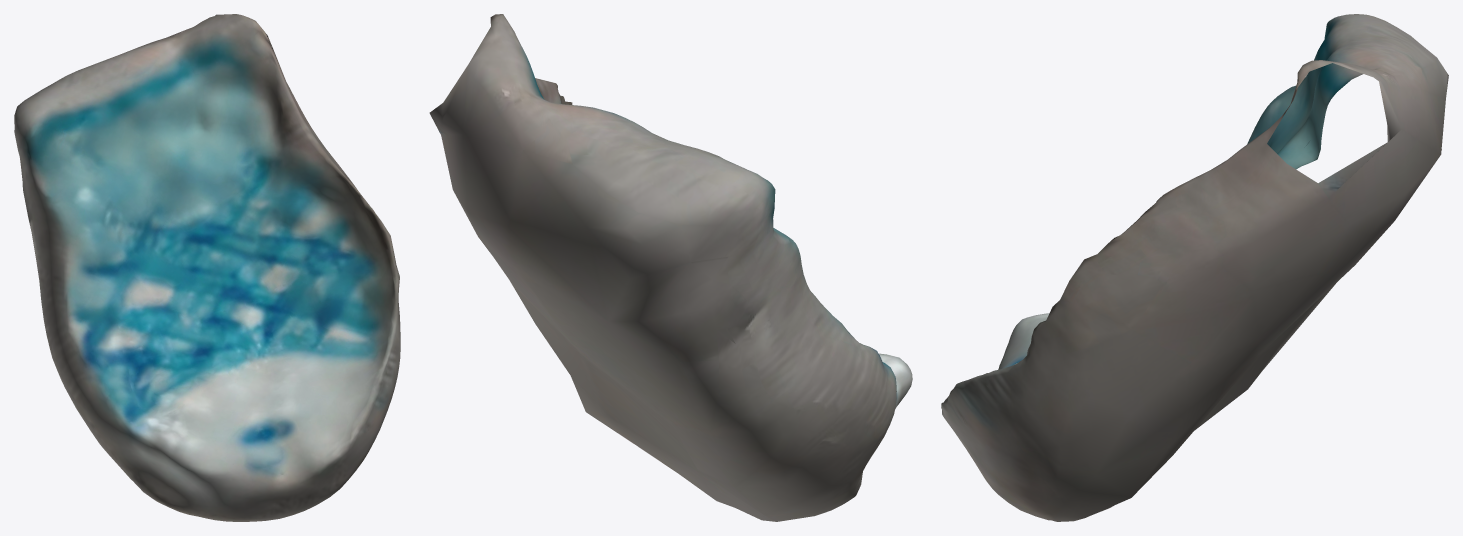
3 renders of one model, left to right at view 1: azimuth 30°, elevation 25°; view 2: azimuth 150°, elevation 25°; view 3: azimuth 270°, elevation 25°, orthographic. The views are drawn at different scales.
Bounding box in the file's own units: 0.1104 × 0.1516 × 0.1393.
1 material, 1 textured.
